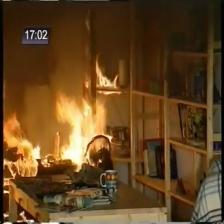fire: (51, 90, 110, 168), (6, 106, 36, 163)
